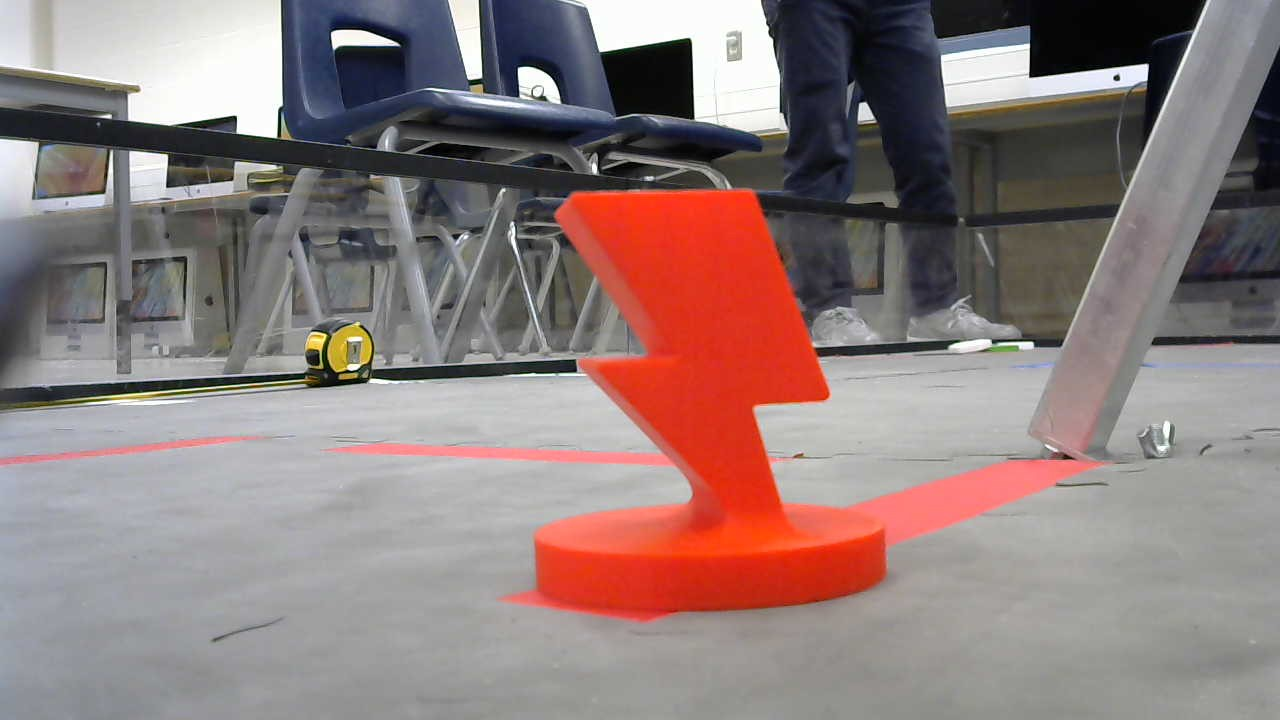redobject: (531, 183, 895, 619)
